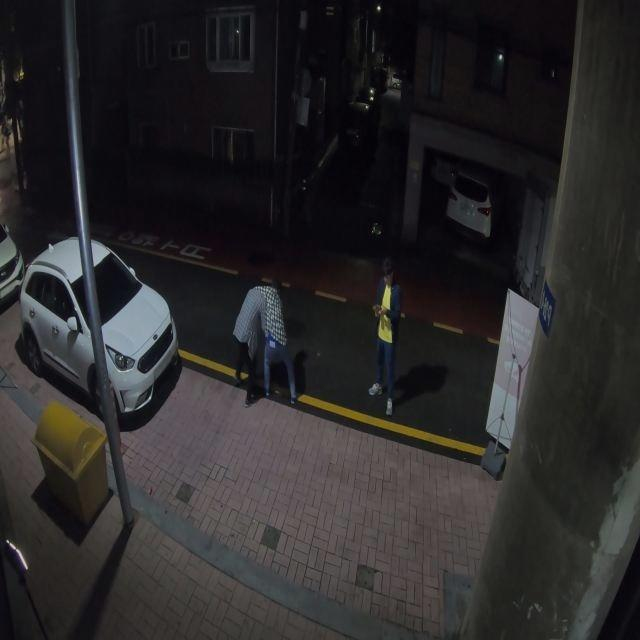fight: (230, 276, 303, 410)
non-fight: (365, 268, 403, 413)
